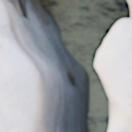broken_brick: (0, 0, 39, 131), (96, 20, 131, 131)
crack: (1, 0, 131, 131)
